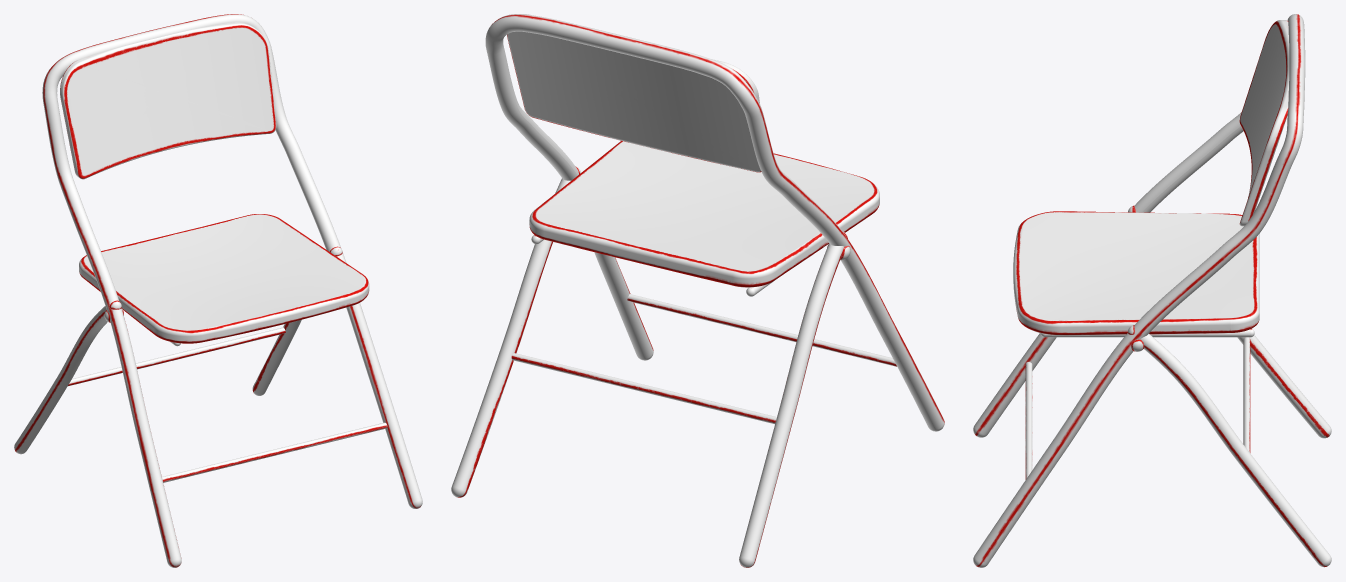
File: cadeira-branca.glb
The picture shows the model from 3 angles, left to right: view 1: azimuth 30°, elevation 25°; view 2: azimuth 150°, elevation 25°; view 3: azimuth 270°, elevation 25°; orthographic projection. The views are drawn at different scales.
Visible parts, largest first — view 1: Assento_Branco, Encosto_Branco_1, Estrutura_principal_Branco_2, Perna_traseira_esquerda_Branco_3, Travessa_frontal_Branco_5, Travessa_traseira_Branco_6, Perna_traseira_direita_Branco_4; view 2: Assento_Branco, Encosto_Branco_1, Estrutura_principal_Branco_2, Perna_traseira_esquerda_Branco_3, Perna_traseira_direita_Branco_4, Travessa_traseira_Branco_6, Travessa_frontal_Branco_5; view 3: Assento_Branco, Estrutura_principal_Branco_2, Encosto_Branco_1, Perna_traseira_direita_Branco_4, Perna_traseira_esquerda_Branco_3, Travessa_frontal_Branco_5, Travessa_traseira_Branco_6, Suporte_assento_direito_Branco_9.
Boxes of the visible parts, box(x1,y1,x2,y2) form: Assento_Branco: box(79, 214, 369, 343); Encosto_Branco_1: box(60, 22, 276, 179); Estrutura_principal_Branco_2: box(42, 14, 422, 567); Perna_traseira_esquerda_Branco_3: box(14, 300, 121, 454); Travessa_frontal_Branco_5: box(162, 422, 387, 482); Travessa_traseira_Branco_6: box(68, 327, 285, 386); Perna_traseira_direita_Branco_4: box(252, 246, 342, 395); Assento_Branco: box(529, 141, 879, 287); Encosto_Branco_1: box(507, 14, 761, 172); Estrutura_principal_Branco_2: box(485, 14, 944, 431); Perna_traseira_esquerda_Branco_3: box(739, 231, 847, 567); Perna_traseira_direita_Branco_4: box(451, 166, 580, 497); Travessa_traseira_Branco_6: box(511, 353, 776, 424); Travessa_frontal_Branco_5: box(627, 294, 896, 366); Assento_Branco: box(1013, 211, 1259, 335); Estrutura_principal_Branco_2: box(973, 14, 1305, 567); Encosto_Branco_1: box(1239, 20, 1289, 226); Perna_traseira_direita_Branco_4: box(1128, 325, 1331, 567); Perna_traseira_esquerda_Branco_3: box(1128, 205, 1331, 438); Travessa_frontal_Branco_5: box(1025, 362, 1032, 479); Travessa_traseira_Branco_6: box(1243, 337, 1250, 452); Suporte_assento_direito_Branco_9: box(1041, 328, 1254, 337).
Bounding box in the file's own units: 0.5789 × 0.8774 × 0.6398.
Materials: 11 (11 with a texture image).
